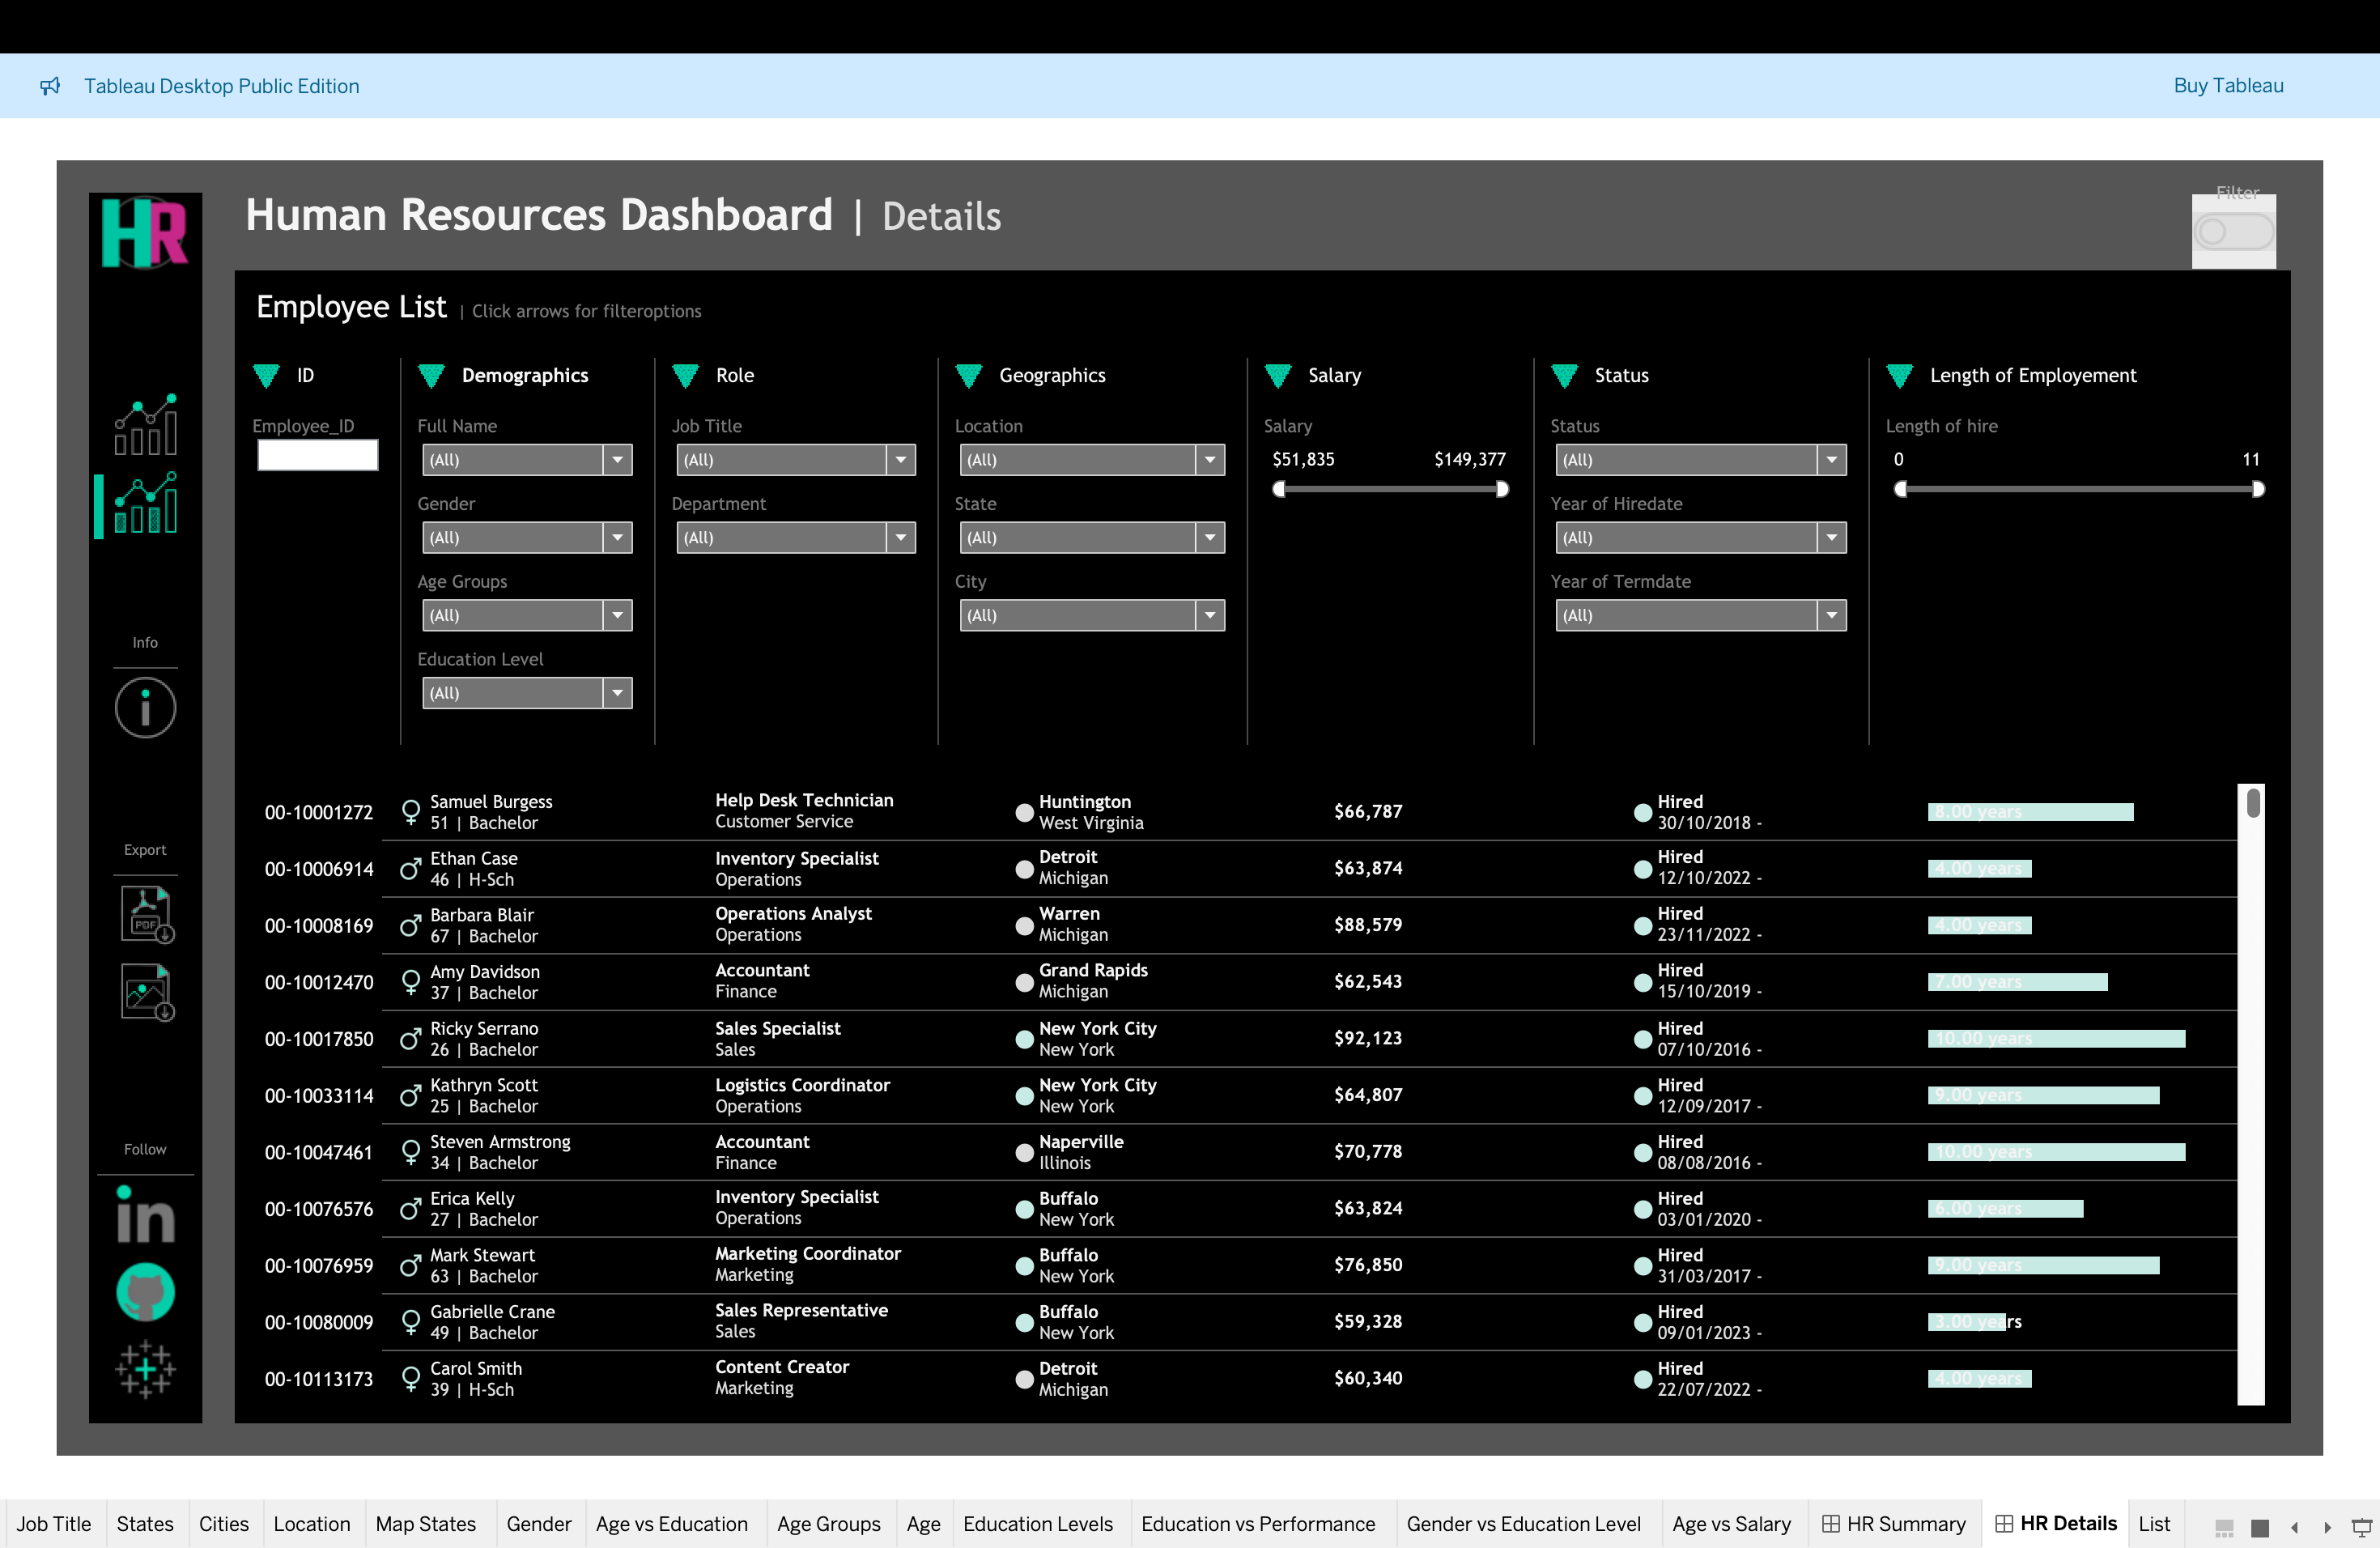

The dashboard page shown, as its layout file describes it:
{"tool":"tableau","page":{"name":"HR Details","canvas":[1400,800],"ordinal":0},"visuals":[{"type":"text","box":[110,0,673,68]},{"type":"blank","box":[783,0,597,68]},{"type":"text","box":[1319,5,57,30]},{"type":"image","param":"Image/Logo.png","box":[20,20,70,49]},{"type":"dashboard-object","box":[1319,21,52,46]},{"type":"blank","box":[20,69,70,65]},{"type":"text","box":[117,75,1256,37]},{"type":"dashboard-object","box":[117,112,25,42]},{"type":"text","box":[142,112,42,42]},{"type":"blank","box":[206,112,13,42]},{"type":"dashboard-object","box":[219,112,25,42]},{"type":"text","box":[244,112,119,42]},{"type":"blank","box":[363,112,13,42]},{"type":"dashboard-object","box":[376,112,25,42]},{"type":"text","box":[401,112,137,42]},{"type":"blank","box":[538,112,13,42]},{"type":"dashboard-object","box":[551,112,25,42]},{"type":"text","box":[576,112,153,42]},{"type":"blank","box":[729,112,13,42]},{"type":"dashboard-object","box":[742,112,25,42]},{"type":"text","box":[766.9,112,139,42]},{"type":"blank","box":[906,112,13,42]},{"type":"dashboard-object","box":[918.9,112,25,42]},{"type":"text","box":[943.9,112,169,42]},{"type":"blank","box":[1112.9,112,13,42]},{"type":"dashboard-object","box":[1125.9,112,25,42]},{"type":"text","box":[1150.9,112,222.1,42]},{"type":"filter","title":"List","param":"[federated.1gel2bj0v5inyw14bz6ku1v3p04s].[none:Employee_ID:nk]","box":[117,117,89,45]},{"type":"filter","title":"List","param":"[federated.1gel2bj0v5inyw14bz6ku1v3p04s].[none:Calculation_1660632008763322370:n","box":[219,117,144,48]},{"type":"filter","title":"List","param":"[federated.1gel2bj0v5inyw14bz6ku1v3p04s].[none:Job Title:nk]","box":[376,117,162,48]},{"type":"filter","title":"List","param":"[federated.1gel2bj0v5inyw14bz6ku1v3p04s].[none:Calculation_1192046540937732101:n","box":[551,117,178,48]},{"type":"filter","title":"List","param":"[federated.1gel2bj0v5inyw14bz6ku1v3p04s].[sum:Salary:qk]","box":[742,117,164,65]},{"type":"filter","title":"List","param":"[federated.1gel2bj0v5inyw14bz6ku1v3p04s].[none:Calculation_1382323625277456384:n","box":[918.9,117,194,48]},{"type":"filter","title":"List","param":"[federated.1gel2bj0v5inyw14bz6ku1v3p04s].[sum:Calculation_1660632008767500291:qk","box":[1125.9,117,247.1,65]},{"type":"dashboard-object","box":[30,144,50,38]},{"type":"worksheet","title":"List","mark":"Shape","rows":["Employee_ID"],"cols":["Calculation_1660632008762773505","Calculation_1660632008762773505","Calculation_1660632008762773505","Calculation_1660632008762773505","Calculation_1660632008762773505","Calculation_1660632008767500291"],"box":[117,164,1256,609]},{"type":"filter","title":"List","param":"[federated.1gel2bj0v5inyw14bz6ku1v3p04s].[none:Gender:nk]","box":[219,165,144,48]},{"type":"filter","title":"List","param":"[federated.1gel2bj0v5inyw14bz6ku1v3p04s].[none:Department:nk]","box":[376,165,162,48]},{"type":"filter","title":"List","param":"[federated.1gel2bj0v5inyw14bz6ku1v3p04s].[none:State:nk]","box":[551,165,178,48]},{"type":"filter","title":"List","param":"[federated.1gel2bj0v5inyw14bz6ku1v3p04s].[yr:Hiredate:ok]","box":[918.9,165,194,48]},{"type":"blank","box":[30,182,50,10]},{"type":"dashboard-object","box":[30,192,50,38]},{"type":"blank","box":[23,194,6,40]},{"type":"filter","title":"List","param":"[federated.1gel2bj0v5inyw14bz6ku1v3p04s].[none:Calculation_1224908744479186948:n","box":[219,213,144,48]},{"type":"filter","title":"List","param":"[federated.1gel2bj0v5inyw14bz6ku1v3p04s].[none:City:nk]","box":[551,213,178,48]},{"type":"filter","title":"List","param":"[federated.1gel2bj0v5inyw14bz6ku1v3p04s].[yr:Termdate:ok]","box":[918.9,213,194,48]},{"type":"blank","box":[30,230,50,58.3]},{"type":"filter","title":"List","param":"[federated.1gel2bj0v5inyw14bz6ku1v3p04s].[none:Education Level:nk]","box":[219,261,144,48]},{"type":"text","box":[30,288.3,50,20]},{"type":"blank","box":[30,308.3,50,11]},{"type":"dashboard-object","box":[30,319.3,50,38]},{"type":"text","box":[91,331,1304,224]},{"type":"blank","box":[30,357.3,50,58.3]},{"type":"text","box":[30,415.7,50,20]},{"type":"blank","box":[30,435.7,50,11]},{"type":"dashboard-object","box":[30,446.7,50,38]},{"type":"blank","box":[30,484.7,50,10]},{"type":"dashboard-object","box":[30,494.7,50,38]},{"type":"blank","box":[30,532.7,50,58.3]},{"type":"text","box":[20,601,70,20]},{"type":"blank","box":[20,621,70,11]},{"type":"image","param":"Image/contact-linkedin.png","box":[20,632,70,38]},{"type":"blank","box":[20,670,70,10]},{"type":"image","param":"Image/ChatGPT Image Jun 21, 2026, 12_20_25 PM.png","box":[20,680,70,38]},{"type":"blank","box":[20,718,70,10]},{"type":"image","param":"Image/contact-public.png","box":[20,728,70,38]}]}

Visuals, with their boxes on the page's 1400x800 design canvas (x1, y1, x2, y2). These are canvas units, not pixel positions in the 2380x1548 screenshot, which may show the page scaled, cropped or inside an application window:
text: <box>110,0,783,68</box>
blank: <box>783,0,1380,68</box>
text: <box>1319,5,1376,35</box>
image: <box>20,20,90,69</box>
dashboard-object: <box>1319,21,1371,67</box>
blank: <box>20,69,90,134</box>
text: <box>117,75,1373,112</box>
dashboard-object: <box>117,112,142,154</box>
text: <box>142,112,184,154</box>
blank: <box>206,112,219,154</box>
dashboard-object: <box>219,112,244,154</box>
text: <box>244,112,363,154</box>
blank: <box>363,112,376,154</box>
dashboard-object: <box>376,112,401,154</box>
text: <box>401,112,538,154</box>
blank: <box>538,112,551,154</box>
dashboard-object: <box>551,112,576,154</box>
text: <box>576,112,729,154</box>
blank: <box>729,112,742,154</box>
dashboard-object: <box>742,112,767,154</box>
text: <box>767,112,906,154</box>
blank: <box>906,112,919,154</box>
dashboard-object: <box>919,112,944,154</box>
text: <box>944,112,1113,154</box>
blank: <box>1113,112,1126,154</box>
dashboard-object: <box>1126,112,1151,154</box>
text: <box>1151,112,1373,154</box>
"List" filter: <box>117,117,206,162</box>
"List" filter: <box>219,117,363,165</box>
"List" filter: <box>376,117,538,165</box>
"List" filter: <box>551,117,729,165</box>
"List" filter: <box>742,117,906,182</box>
"List" filter: <box>919,117,1113,165</box>
"List" filter: <box>1126,117,1373,182</box>
dashboard-object: <box>30,144,80,182</box>
"List" worksheet (Shape marks): <box>117,164,1373,773</box>
"List" filter: <box>219,165,363,213</box>
"List" filter: <box>376,165,538,213</box>
"List" filter: <box>551,165,729,213</box>
"List" filter: <box>919,165,1113,213</box>
blank: <box>30,182,80,192</box>
dashboard-object: <box>30,192,80,230</box>
blank: <box>23,194,29,234</box>
"List" filter: <box>219,213,363,261</box>
"List" filter: <box>551,213,729,261</box>
"List" filter: <box>919,213,1113,261</box>
blank: <box>30,230,80,288</box>
"List" filter: <box>219,261,363,309</box>
text: <box>30,288,80,308</box>
blank: <box>30,308,80,319</box>
dashboard-object: <box>30,319,80,357</box>
text: <box>91,331,1395,555</box>
blank: <box>30,357,80,416</box>
text: <box>30,416,80,436</box>
blank: <box>30,436,80,447</box>
dashboard-object: <box>30,447,80,485</box>
blank: <box>30,485,80,495</box>
dashboard-object: <box>30,495,80,533</box>
blank: <box>30,533,80,591</box>
text: <box>20,601,90,621</box>
blank: <box>20,621,90,632</box>
image: <box>20,632,90,670</box>
blank: <box>20,670,90,680</box>
image: <box>20,680,90,718</box>
blank: <box>20,718,90,728</box>
image: <box>20,728,90,766</box>
